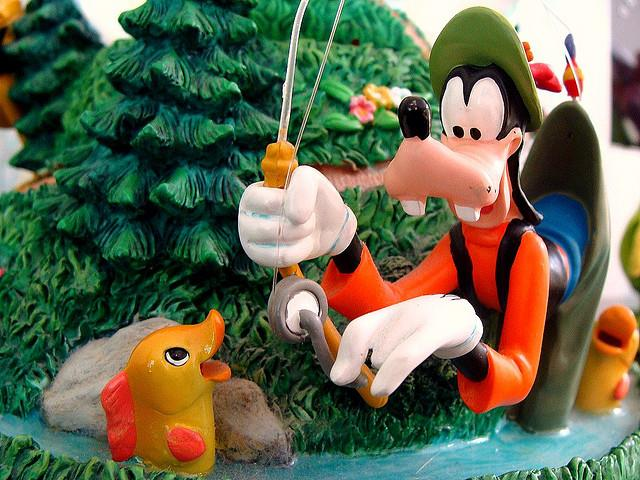Goofy: (376, 7, 577, 229)
